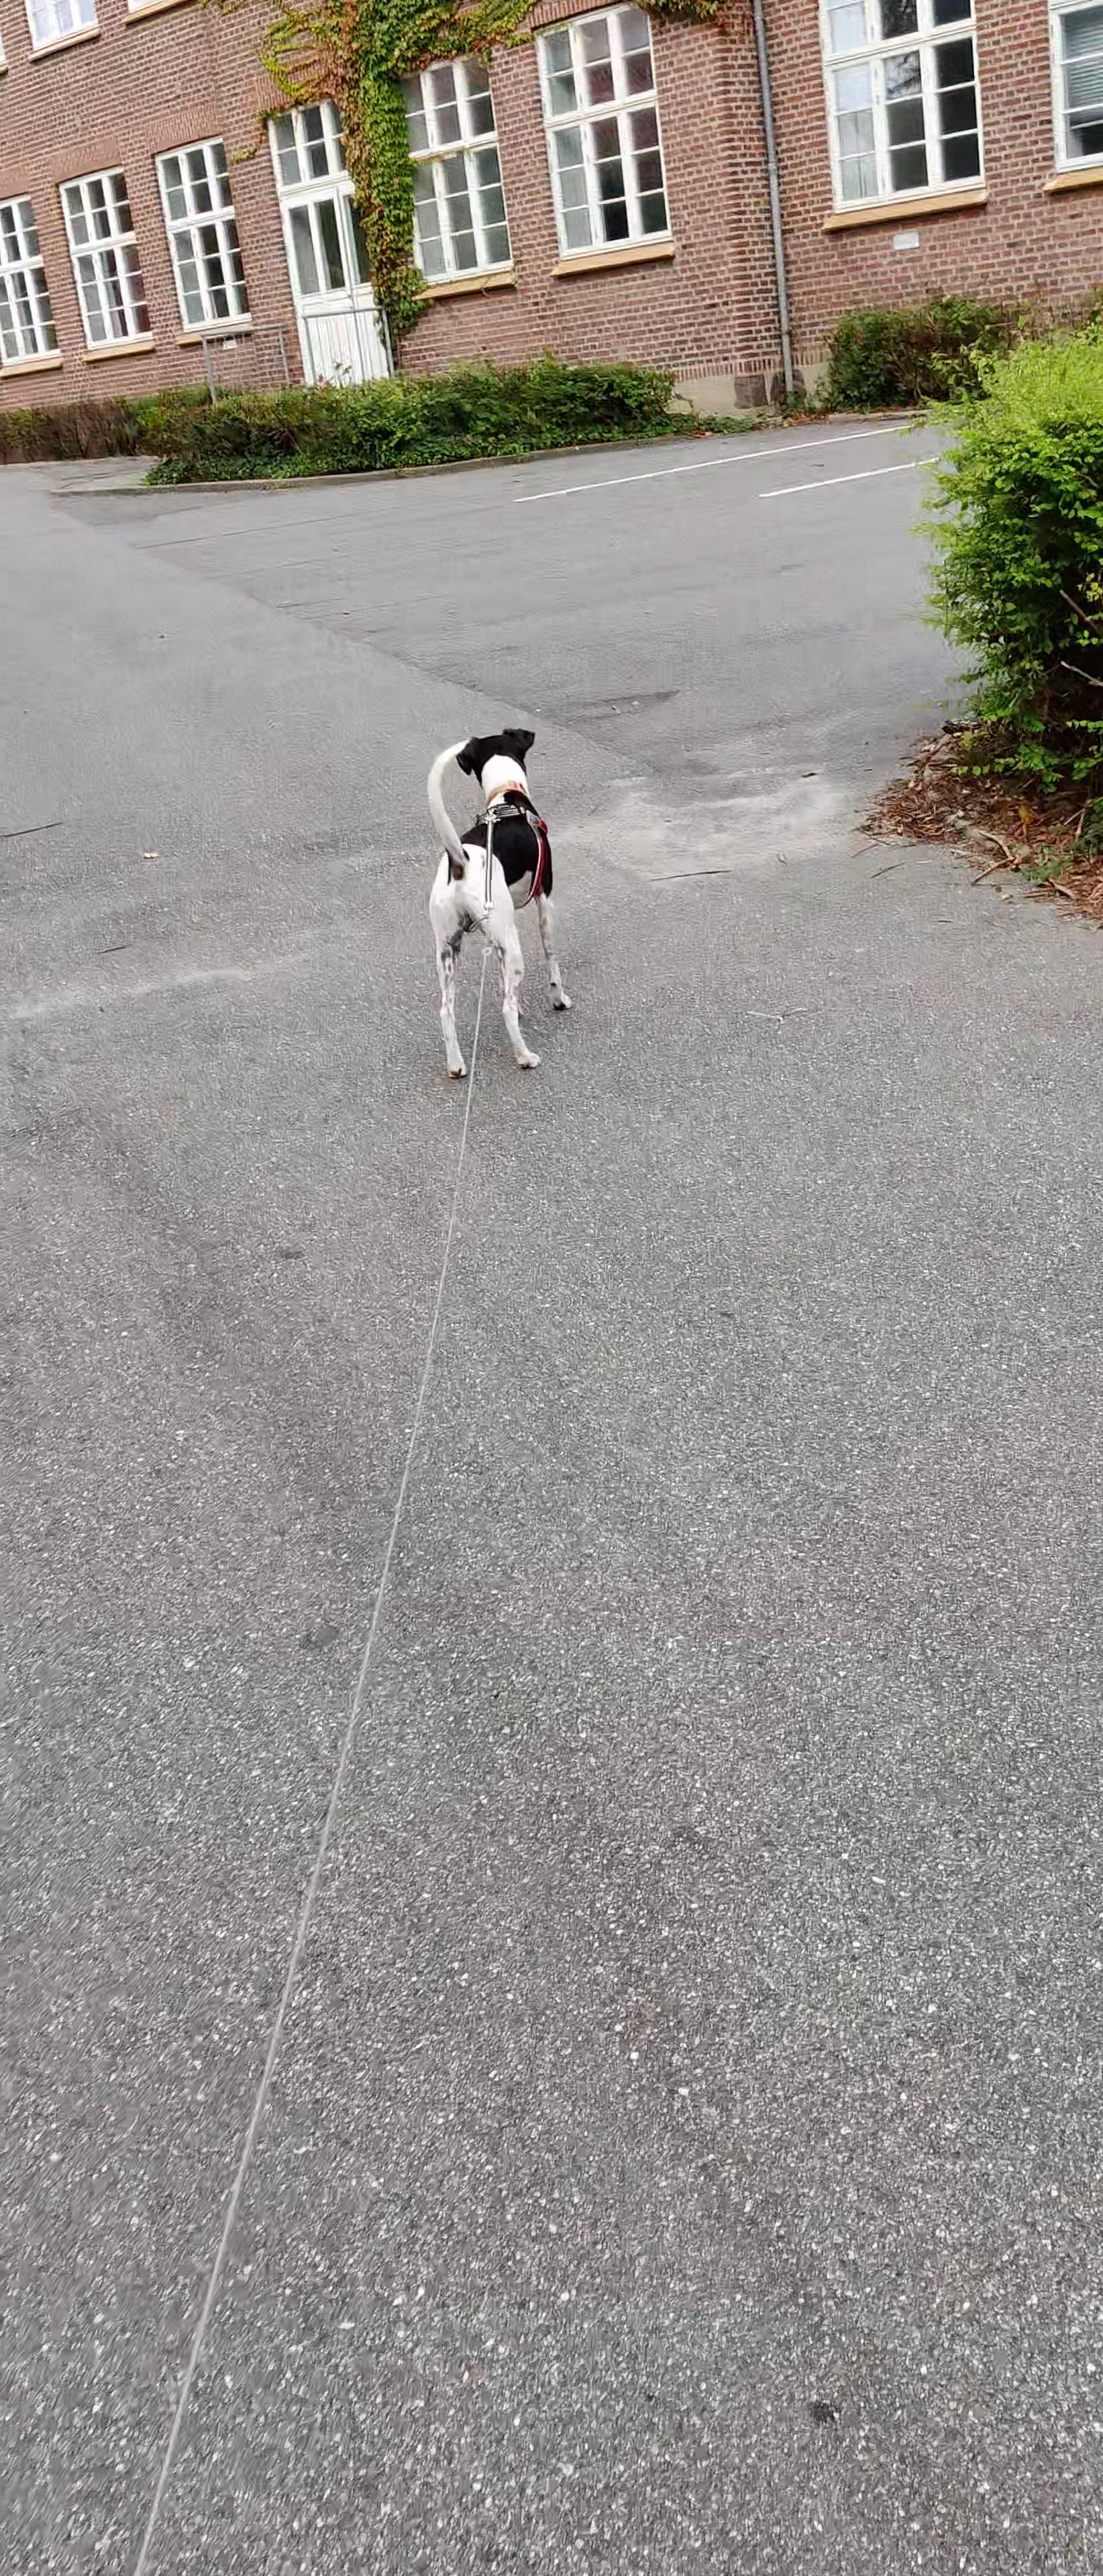Dog: (398, 721, 587, 1086)
